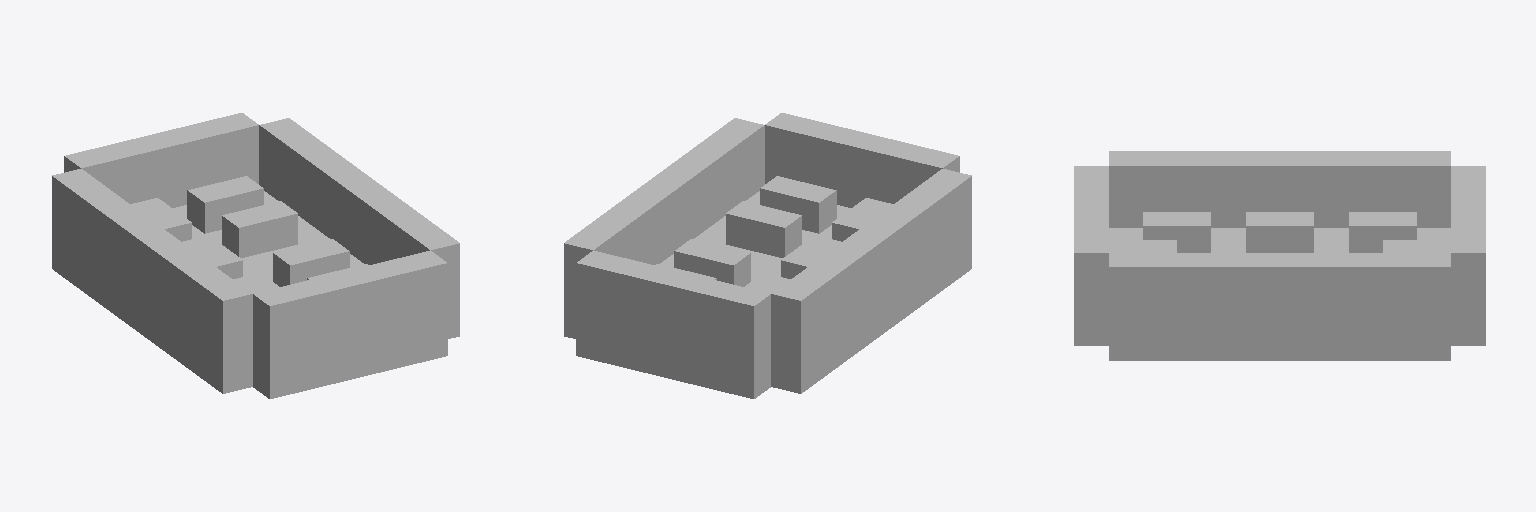
File: hardcook_baking_sheet_pieces.obj
3 renders of one model, left to right at view 1: azimuth 30°, elevation 25°; view 2: azimuth 150°, elevation 25°; view 3: azimuth 270°, elevation 25°, orthographic.
Parts seen in each view (by area): view 1: node_0_0_0.001, node_0_0_0.002; view 2: node_0_0_0.001, node_0_0_0.002; view 3: node_0_0_0.001, node_0_0_0.002.
Boxes of the visible parts, box(x1,y1,x2,y2) form: node_0_0_0.001: box(52, 113, 459, 398); node_0_0_0.002: box(131, 176, 368, 293); node_0_0_0.001: box(564, 113, 971, 398); node_0_0_0.002: box(655, 176, 892, 293); node_0_0_0.001: box(1074, 151, 1485, 360); node_0_0_0.002: box(1143, 212, 1416, 252).
Size of the model in its own units: 0.5 by 0.1875 by 0.75.